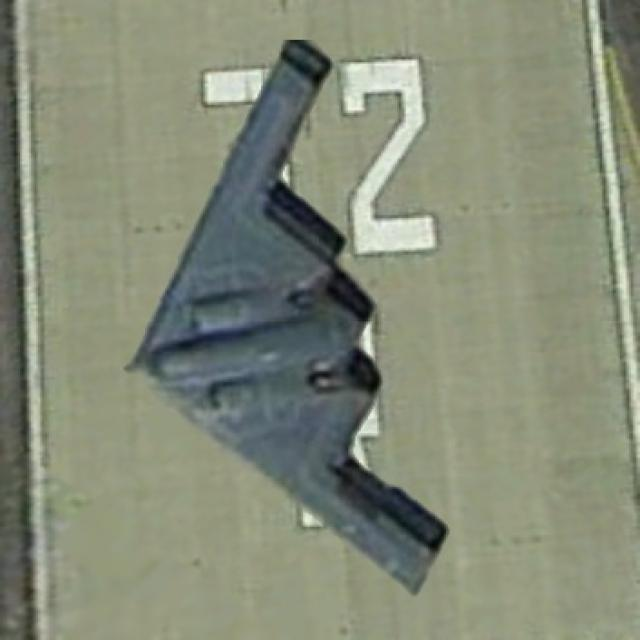B-2_TopDown: (118, 33, 455, 597)
